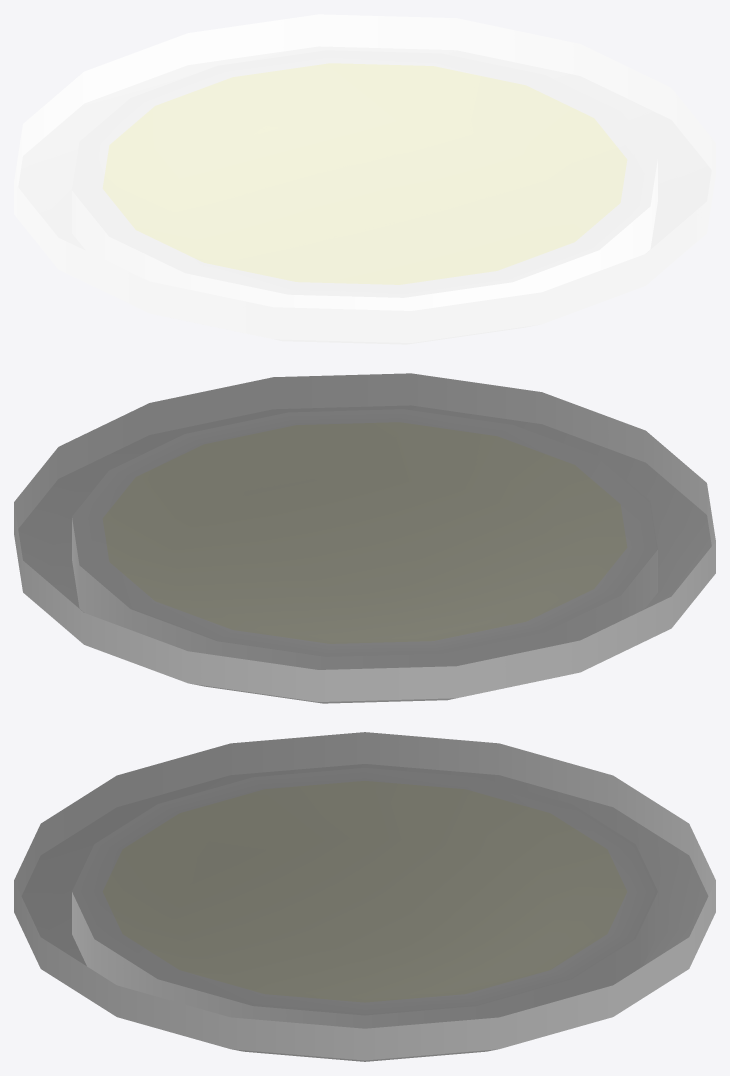
File: FP428:LightFixture1_c0fe1bef.obj
The picture shows the model from 3 angles, top to bottom: view 1: azimuth 30°, elevation 25°; view 2: azimuth 150°, elevation 25°; view 3: azimuth 270°, elevation 25°; orthographic projection.
Visible parts, largest first — view 1: FP428:LightFixture1_c0fe1bef; view 2: FP428:LightFixture1_c0fe1bef; view 3: FP428:LightFixture1_c0fe1bef.
Part boxes in pixels (<box>): FP428:LightFixture1_c0fe1bef: <box>14,14,715,344</box>; FP428:LightFixture1_c0fe1bef: <box>14,373,715,703</box>; FP428:LightFixture1_c0fe1bef: <box>14,732,715,1061</box>.
Bounding box in the file's own units: 0.2 × 0.017 × 0.2.
